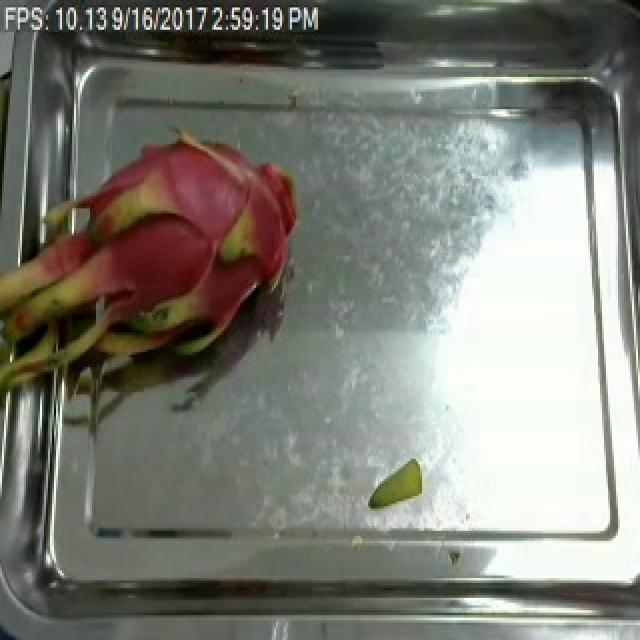fruit: (0, 106, 308, 422)
